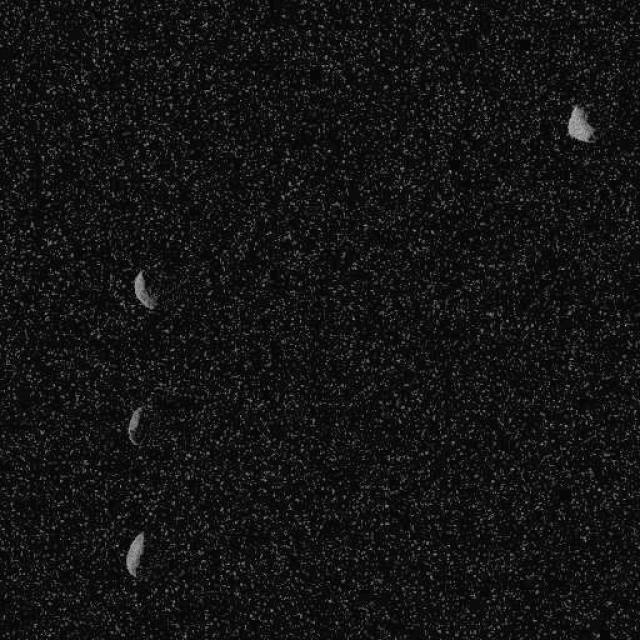D2: (565, 104, 596, 142), (132, 268, 158, 310), (124, 530, 145, 578), (126, 405, 144, 445)
